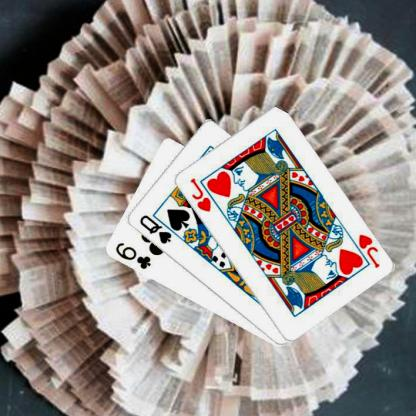6C: (112, 240, 152, 271)
JH: (355, 232, 381, 269), (188, 175, 212, 213)
QS: (136, 212, 173, 245)
